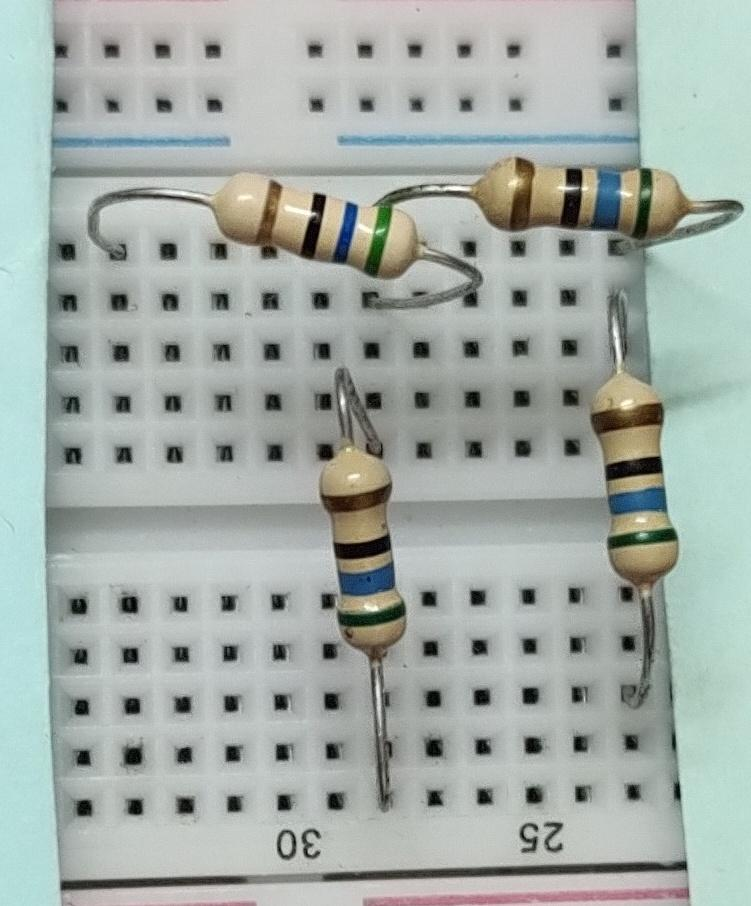resistor: (199, 162, 429, 287), (307, 427, 423, 663), (579, 362, 695, 597), (470, 142, 690, 247)
